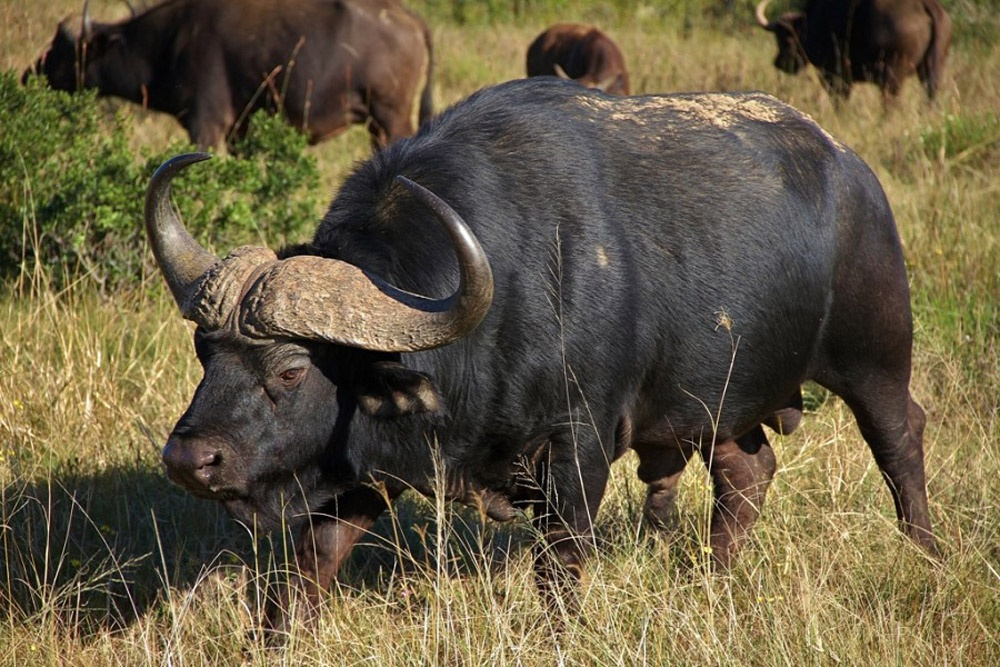buffalo: (141, 80, 946, 566), (22, 5, 439, 155), (750, 2, 957, 100)
